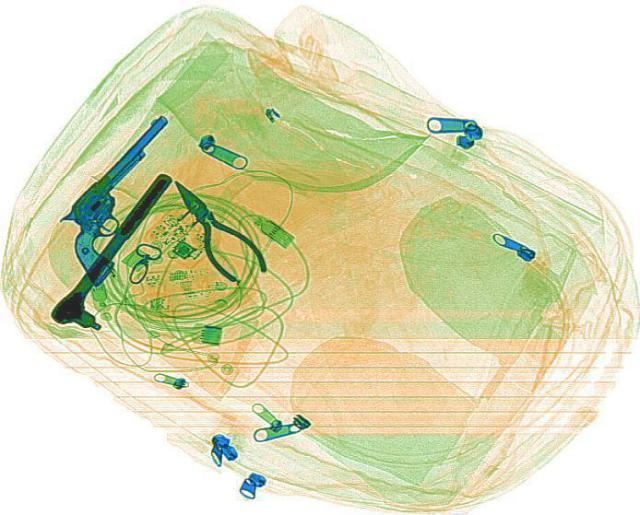Gun: (25, 110, 231, 285)
Pliers: (152, 171, 272, 286)
